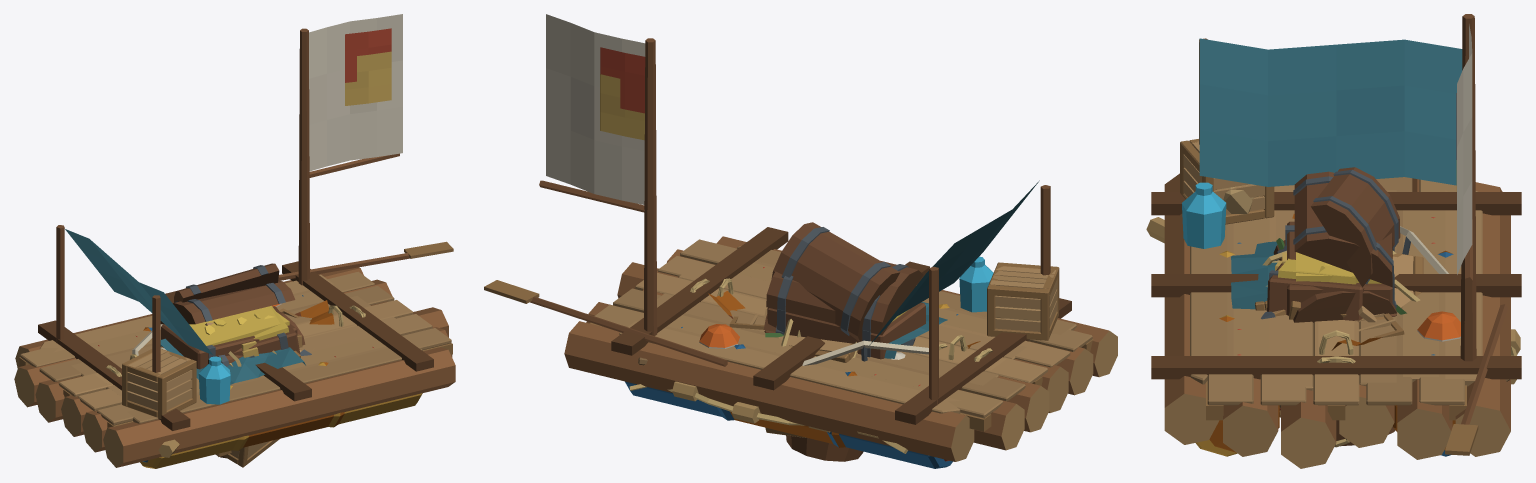
The model's file is restos.glb.
The picture shows the model from 3 angles, left to right: view 1: azimuth 30°, elevation 25°; view 2: azimuth 150°, elevation 25°; view 3: azimuth 270°, elevation 25°; orthographic projection. The views are drawn at different scales.
Parts seen in each view (by area): view 1: resto_balsa_1, resto_balsa_0, resto_balsa_2, resto_cofre_0, resto_cofre_2, resto_caja_0, resto_caja_2, resto_restos_0; view 2: resto_balsa_1, resto_balsa_0, resto_balsa_2, resto_cofre_2, resto_cofre_0, resto_red_0, resto_barril_2, resto_restos_2, resto_caja_1; view 3: resto_balsa_2, resto_balsa_1, resto_balsa_0, resto_cofre_2, resto_cofre_0, resto_cofre_1, resto_caja_0, resto_red_0, resto_caja_1, resto_restos_2, resto_red_2.
Part boxes in pixels (x1=…): resto_balsa_1: x1=14, y1=28, x2=455, y2=467; resto_balsa_0: x1=19, y1=14, x2=452, y2=462; resto_balsa_2: x1=40, y1=51, x2=453, y2=468; resto_cofre_0: x1=160, y1=280, x2=297, y2=369; resto_cofre_2: x1=174, y1=263, x2=300, y2=360; resto_caja_0: x1=160, y1=338, x2=305, y2=456; resto_caja_2: x1=223, y1=349, x2=311, y2=467; resto_restos_0: x1=295, y1=300, x2=334, y2=324; resto_balsa_1: x1=564, y1=47, x2=1117, y2=461; resto_balsa_0: x1=539, y1=14, x2=1093, y2=461; resto_balsa_2: x1=484, y1=74, x2=1076, y2=468; resto_cofre_2: x1=771, y1=222, x2=899, y2=341; resto_cofre_0: x1=766, y1=261, x2=925, y2=359; resto_red_0: x1=667, y1=324, x2=907, y2=453; resto_barril_2: x1=786, y1=435, x2=863, y2=461; resto_restos_2: x1=802, y1=340, x2=928, y2=365; resto_caja_1: x1=763, y1=309, x2=858, y2=437; resto_balsa_2: x1=1190, y1=38, x2=1507, y2=456; resto_balsa_1: x1=1151, y1=93, x2=1521, y2=468; resto_balsa_0: x1=1182, y1=14, x2=1476, y2=452; resto_cofre_2: x1=1267, y1=167, x2=1400, y2=321; resto_cofre_0: x1=1282, y1=171, x2=1394, y2=315; resto_cofre_1: x1=1262, y1=240, x2=1420, y2=322; resto_caja_0: x1=1231, y1=241, x2=1395, y2=417; resto_red_0: x1=1417, y1=311, x2=1520, y2=384; resto_caja_1: x1=1280, y1=253, x2=1423, y2=427; resto_restos_2: x1=1400, y1=226, x2=1448, y2=273; resto_red_2: x1=1353, y1=313, x2=1404, y2=337.
Size of the model in its own units: 3.96 by 3.1 by 2.13.
